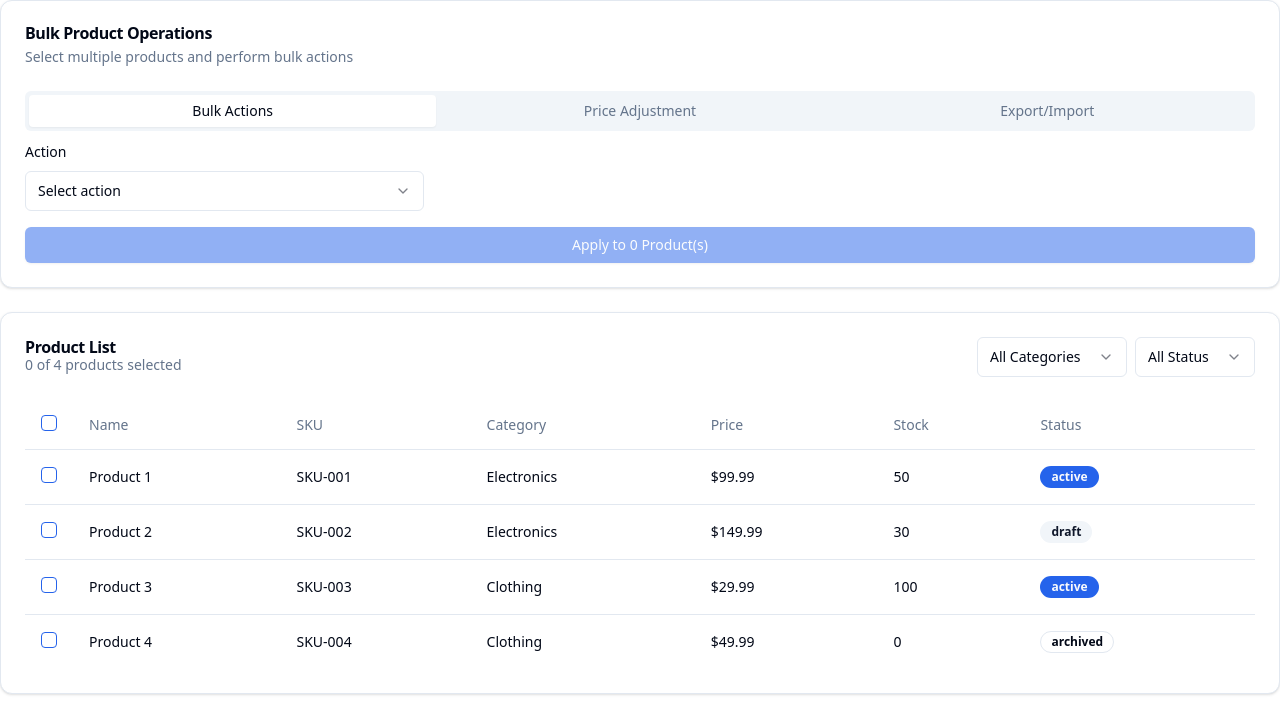
Test case: BulkProductOperations › Product Selection › should select individual products
What coordinates should you click on to do the following:
click the checkbox next to "Product 1"
I would click on:
 (49, 474)
Its box is [41,466,57,482].
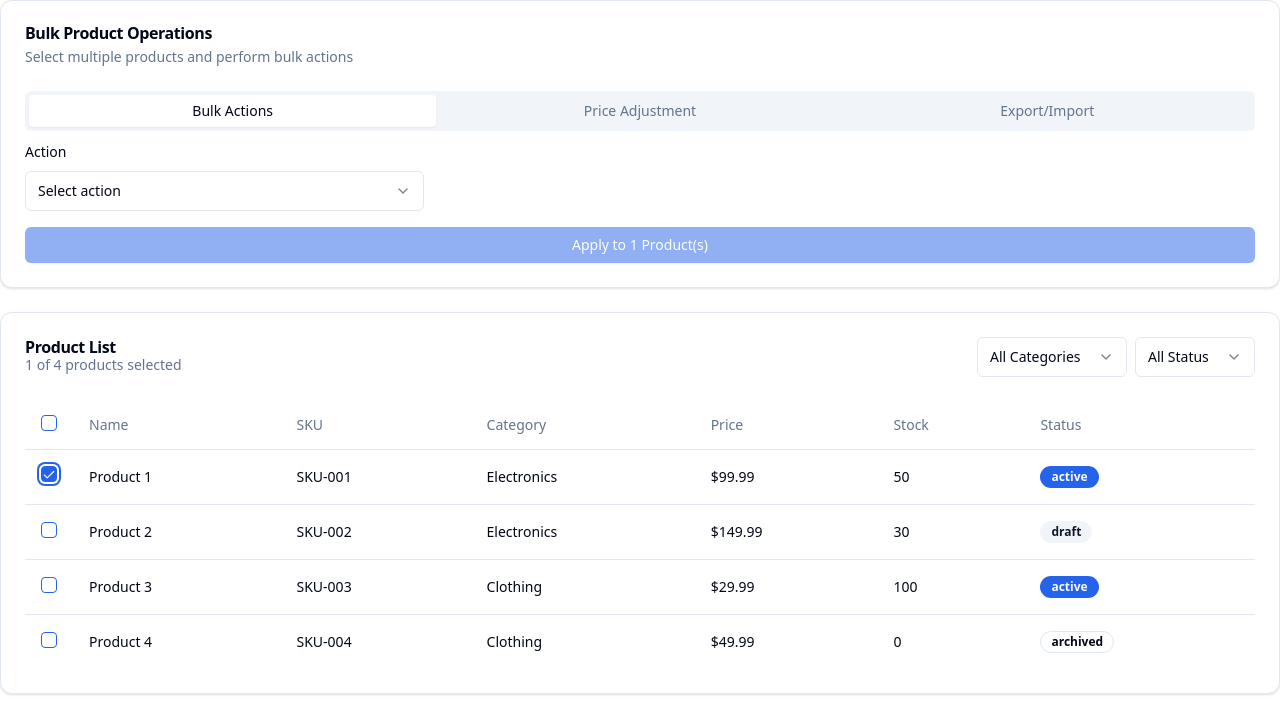
Expected: the text "1 of 4 products selected" is shown, [25,355,182,375]
